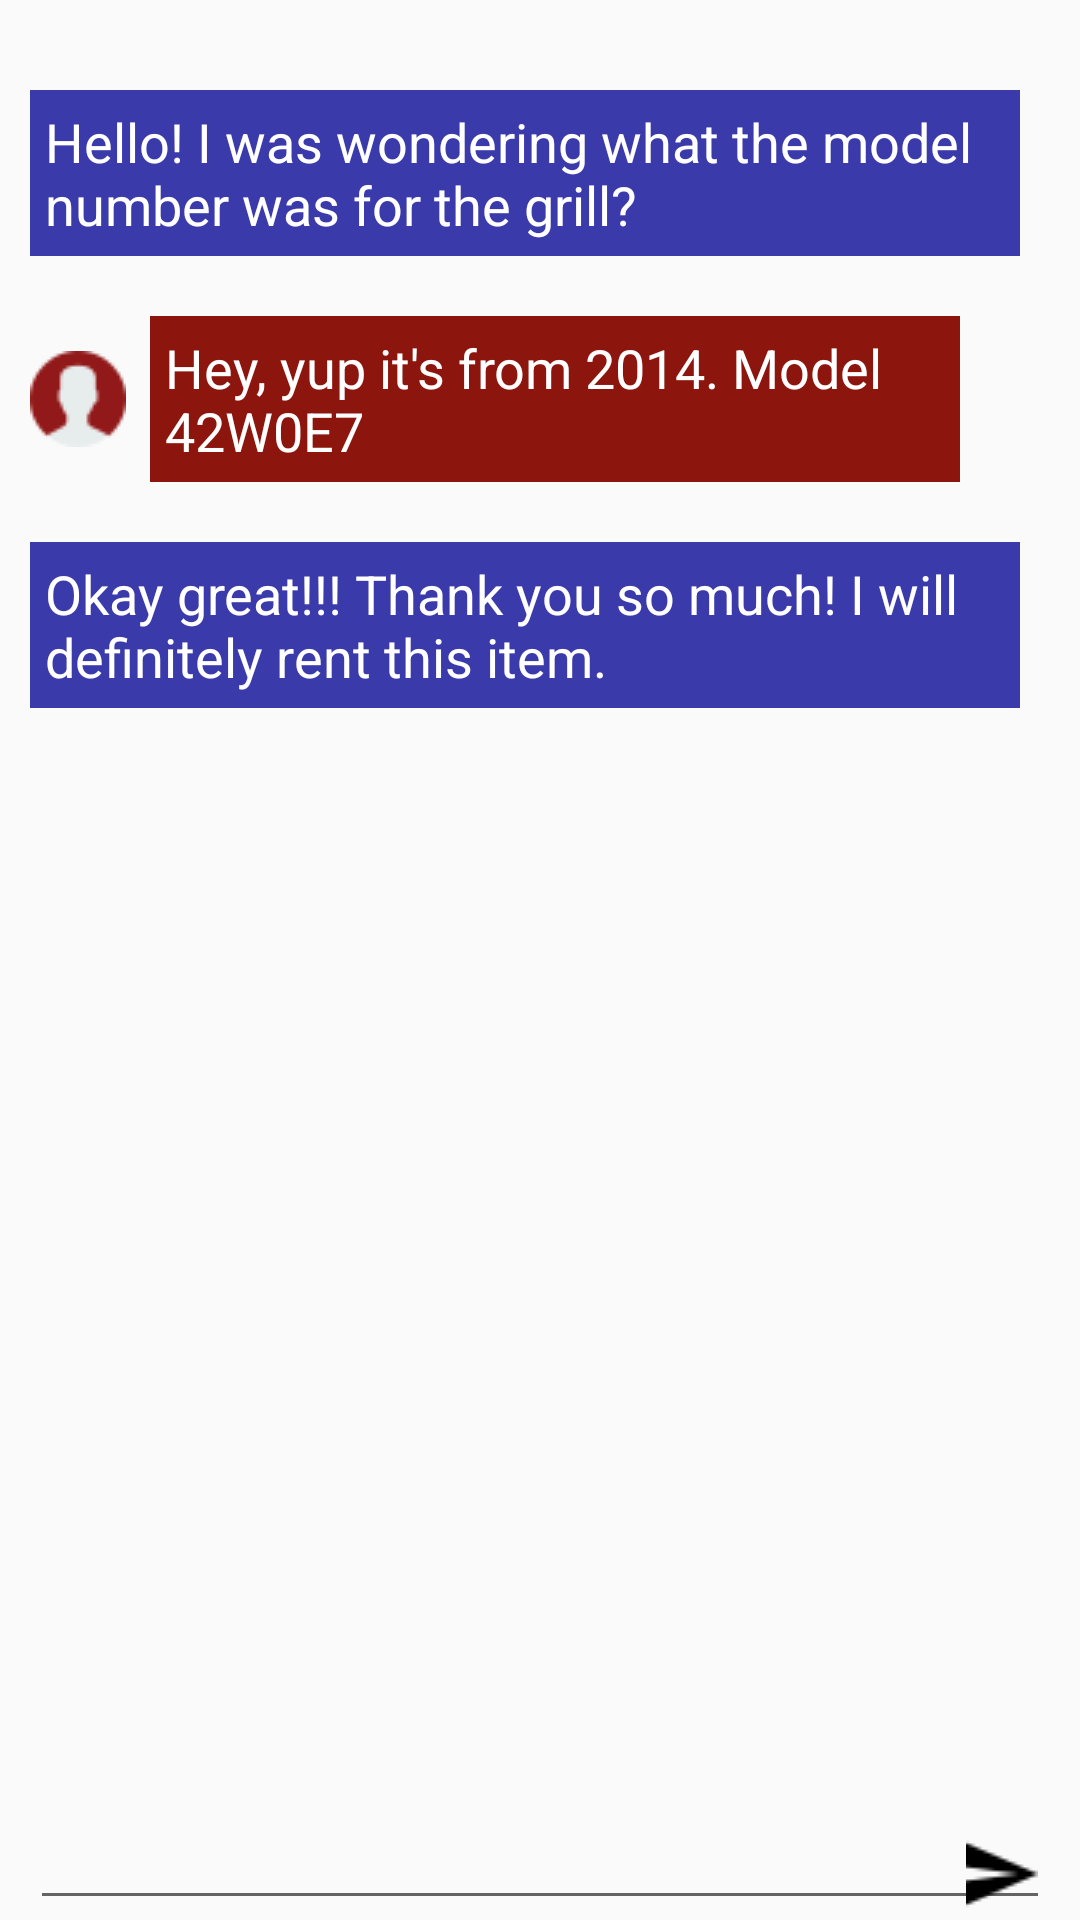

Icon click points for this 1080 x 1920 phone screenshot, format (x=x, y=y):
user: (x=78, y=393)
